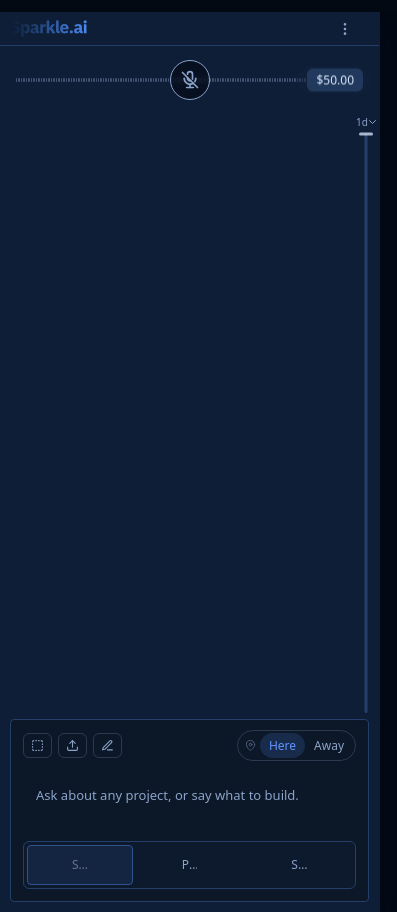
Test case: the refusals keep the founder's words › receipts a successful send by naming who it reached
This screenshot has width=397, height=912.
Type "@Ada hi" into the text box named "Message".
click(190, 804); type("@Ada hi")  # box [23,775,356,833]
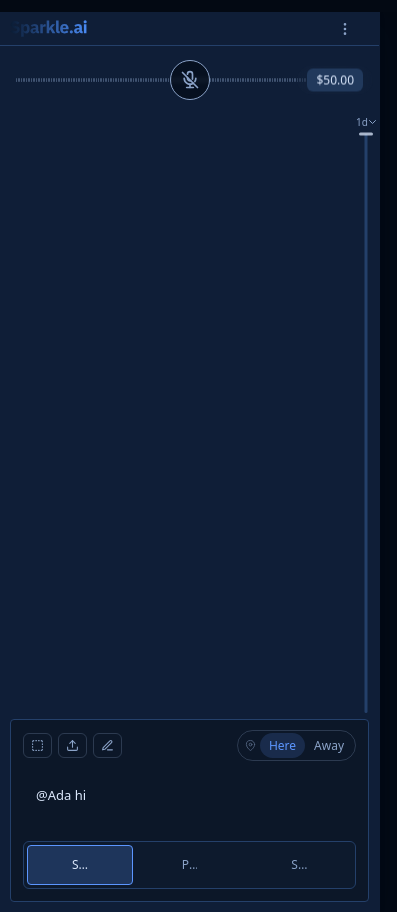
Click the button "Send".
click(80, 865)  # box [27,845,133,885]
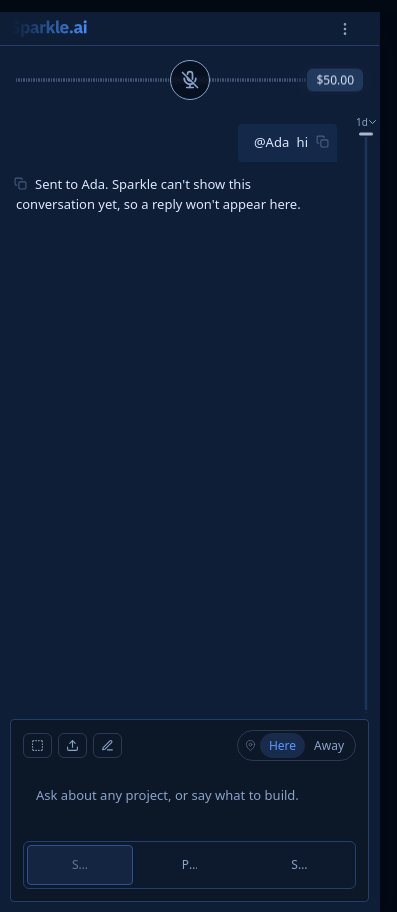
Result: the element with test id "concierge-thread" shows "Sent to Ada." at [16,174,301,213]
